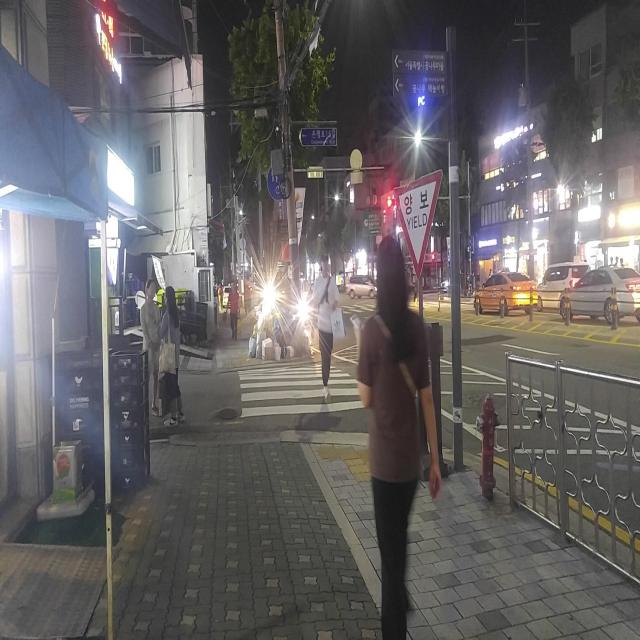횡단보도: (238, 362, 367, 418)
